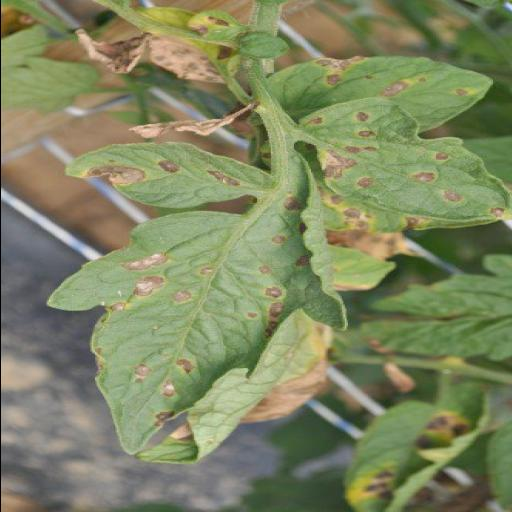disease_tomato: (42, 139, 354, 465), (292, 99, 508, 231), (337, 377, 504, 512), (266, 53, 502, 135)
